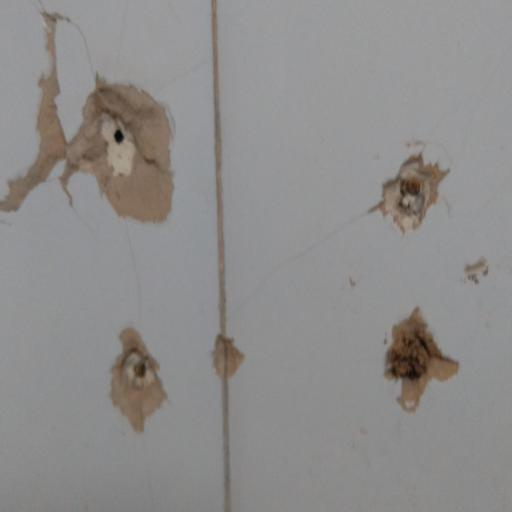spalling: (0, 0, 205, 252), (363, 284, 480, 435), (84, 321, 192, 466), (354, 129, 473, 247), (199, 302, 263, 389)
